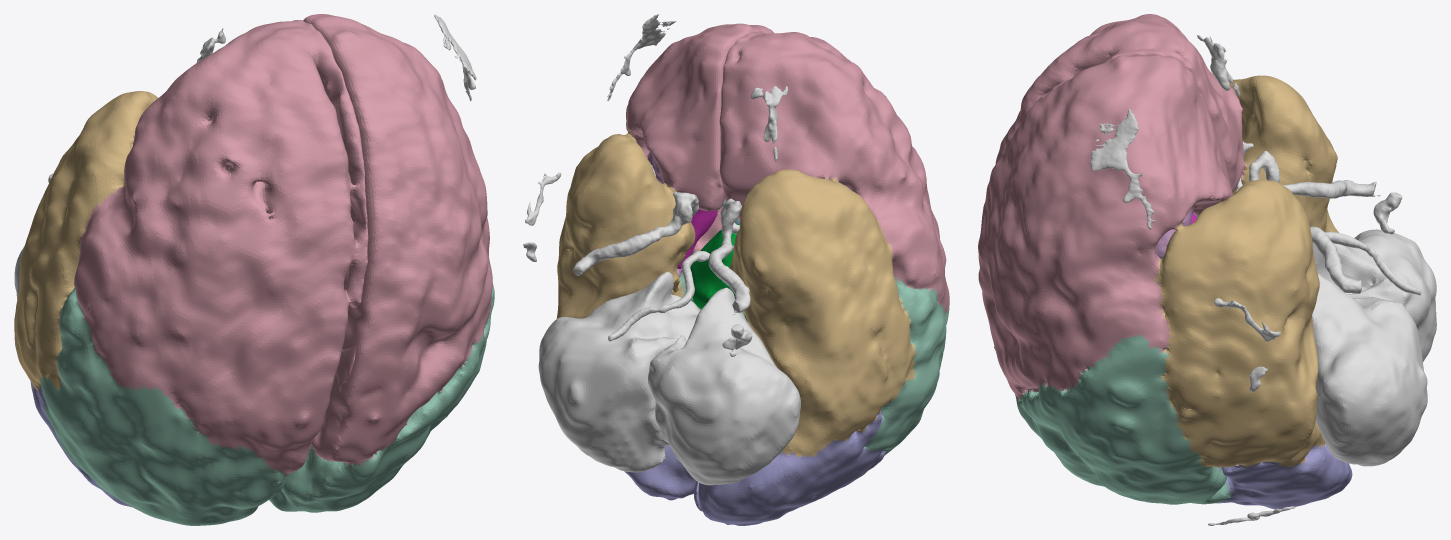
3 renders of one model, left to right at view 1: azimuth 30°, elevation 25°; view 2: azimuth 150°, elevation 25°; view 3: azimuth 270°, elevation 25°, orthographic. The views are drawn at different scales.
Visible parts, largest first — view 1: Left Cortex, Right Cortex, Arteries; view 2: Left Cortex, Right Cortex, Left Cerebellar Cortex, Right Cerebellar Cortex, Arteries, Right Thalamus, Right Putamen; view 3: Right Cortex, Left Cortex, Right Cerebellar Cortex, Arteries, Left Cerebellar Cortex.
Boxes of the visible parts, left/top/right/bottom form: Left Cortex: left=14, top=20, right=368, bottom=525; Right Cortex: left=269, top=14, right=494, bottom=512; Arteries: left=48, top=14, right=476, bottom=182; Left Cortex: left=698, top=31, right=949, bottom=525; Right Cortex: left=556, top=23, right=774, bottom=511; Left Cerebellar Cortex: left=648, top=287, right=800, bottom=485; Right Cerebellar Cortex: left=538, top=272, right=700, bottom=472; Arteries: left=523, top=14, right=788, bottom=356; Right Thalamus: left=690, top=224, right=739, bottom=308; Right Putamen: left=677, top=209, right=717, bottom=268; Right Cortex: left=978, top=55, right=1352, bottom=509; Left Cortex: left=995, top=14, right=1338, bottom=232; Right Cerebellar Cortex: left=1312, top=274, right=1427, bottom=466; Arteries: left=1090, top=35, right=1421, bottom=525; Left Cerebellar Cortex: left=1312, top=229, right=1436, bottom=361.
Size of the model in its own units: 139 by 152 by 137.
